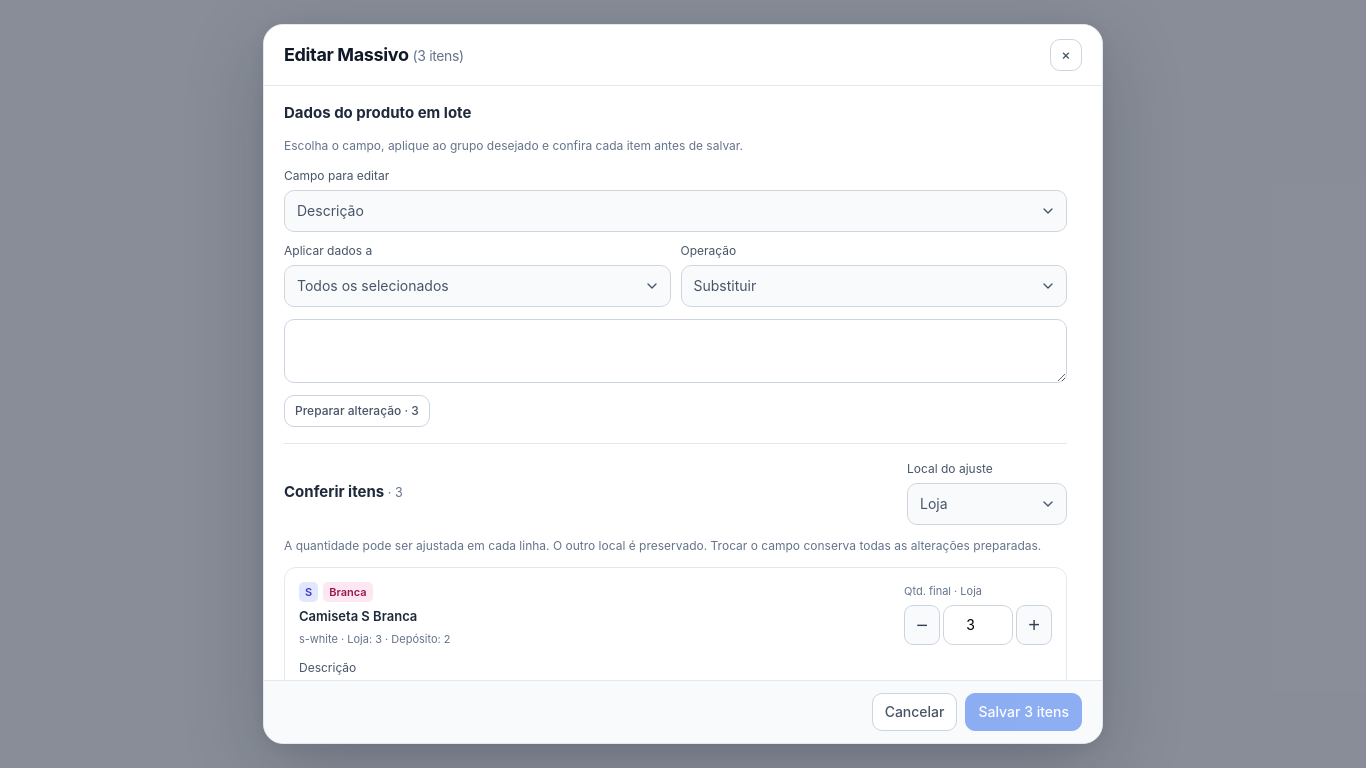
Test: blocks invalid final quantity -1 without losing the draft
Replace the text in the number field named "Quantidade Camiseta S Branca" with "-1". click: {"x": 978, "y": 625}
box: [943,605,1013,645]
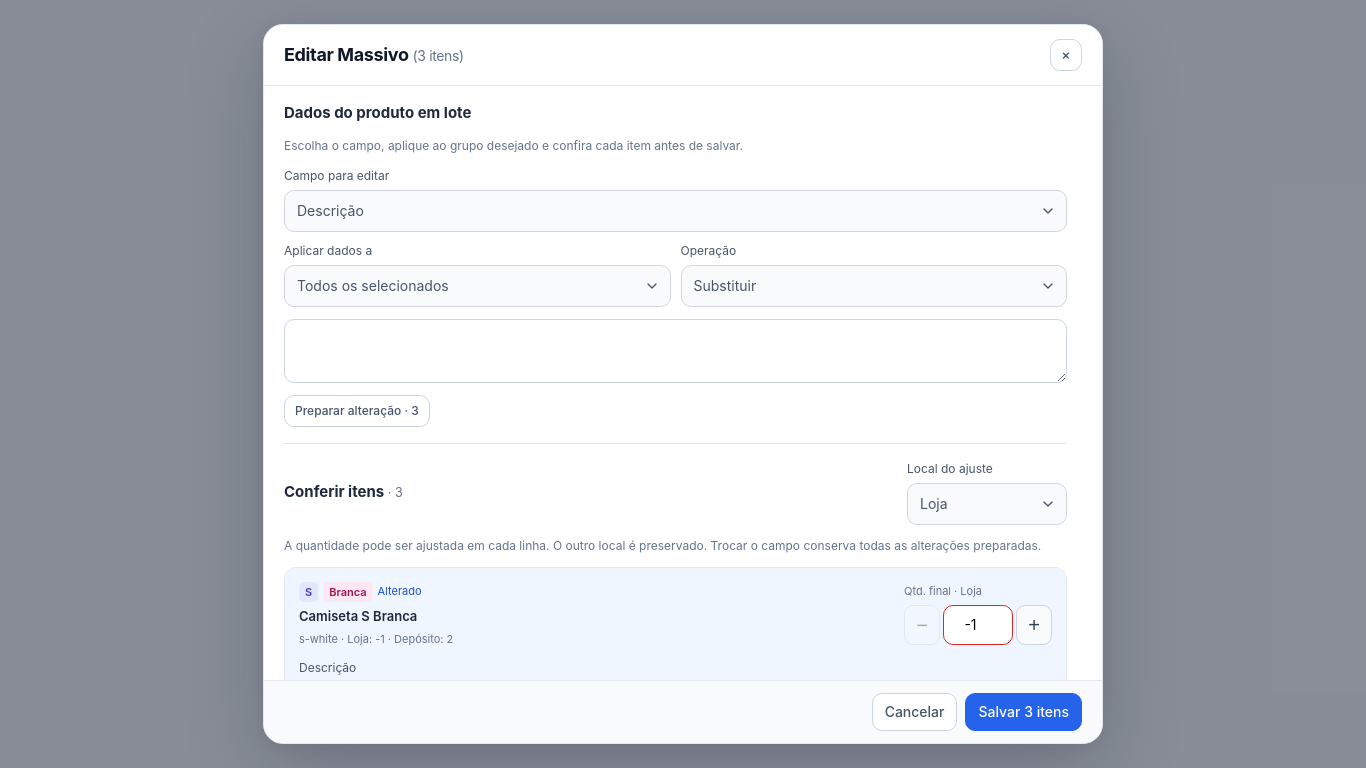
Click the button "Salvar 3 itens". click: {"x": 1024, "y": 712}
box: [966,693,1082,731]
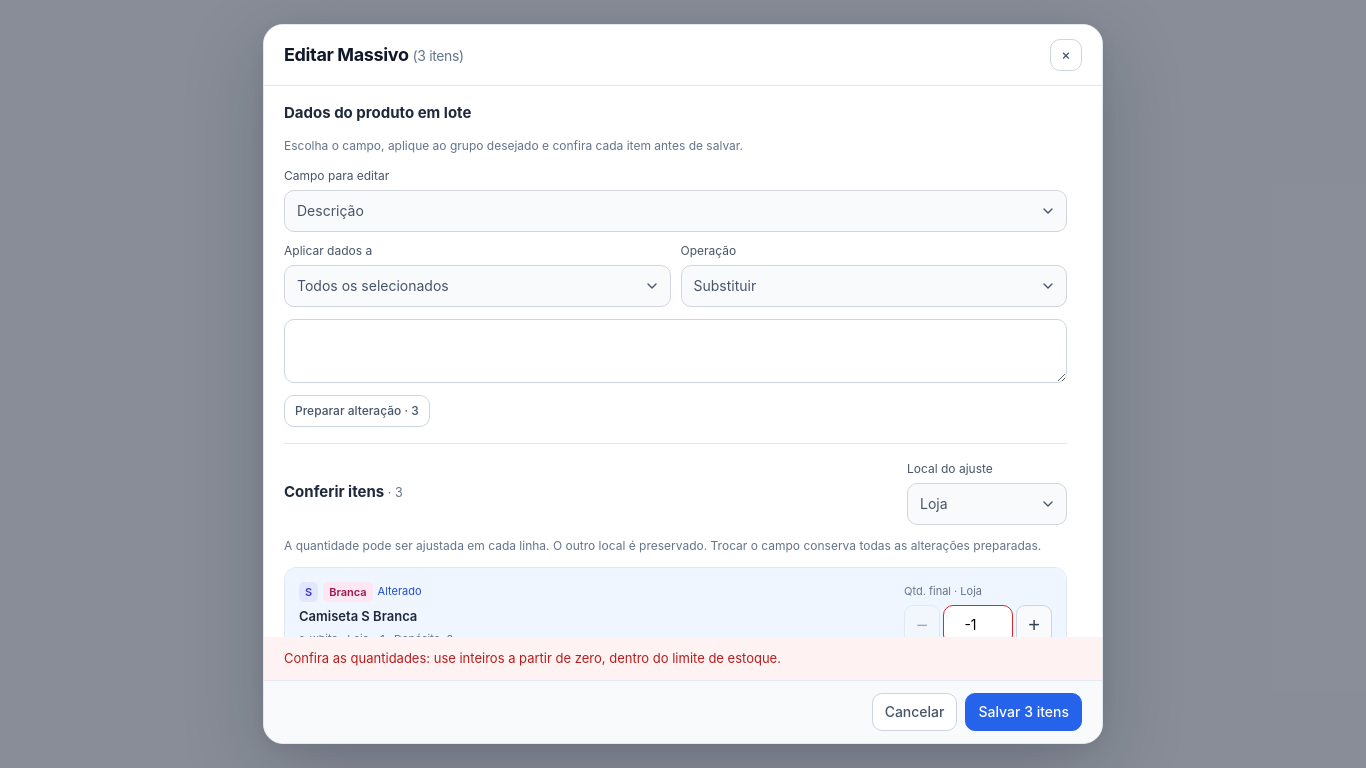
Now the text "Confira as quantidades" is shown, box [284,650,781,666]
